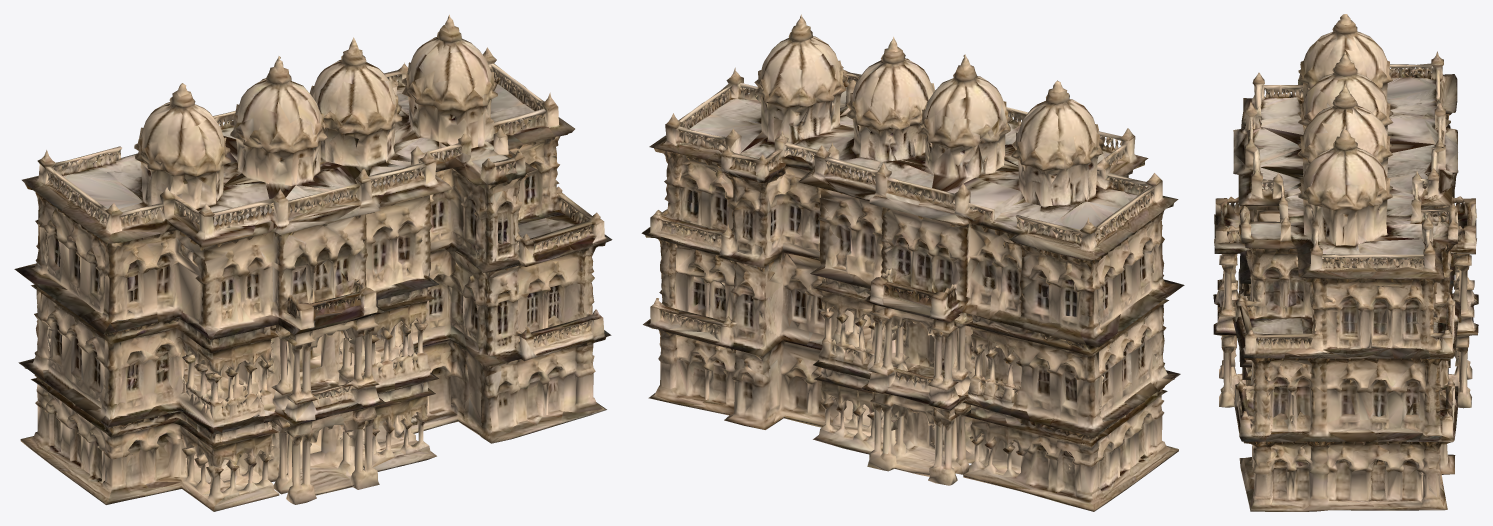
Rendered from Palace_of_the_Four_Do.glb.
3 views of the same model, side by side, from view 1: azimuth 30°, elevation 25°; view 2: azimuth 150°, elevation 25°; view 3: azimuth 270°, elevation 25° (orthographic). The views are drawn at different scales.
Parts seen in each view (by area): view 1: Palace_of_the_Four_Do; view 2: Palace_of_the_Four_Do; view 3: Palace_of_the_Four_Do.
Boxes of the visible parts, bbox=[...] form: Palace_of_the_Four_Do: bbox=[14, 14, 612, 511]; Palace_of_the_Four_Do: bbox=[641, 14, 1184, 511]; Palace_of_the_Four_Do: bbox=[1213, 14, 1478, 511].
Bounding box in the file's own units: 1.9 × 1.46 × 1.02.
1 material, 1 textured.
